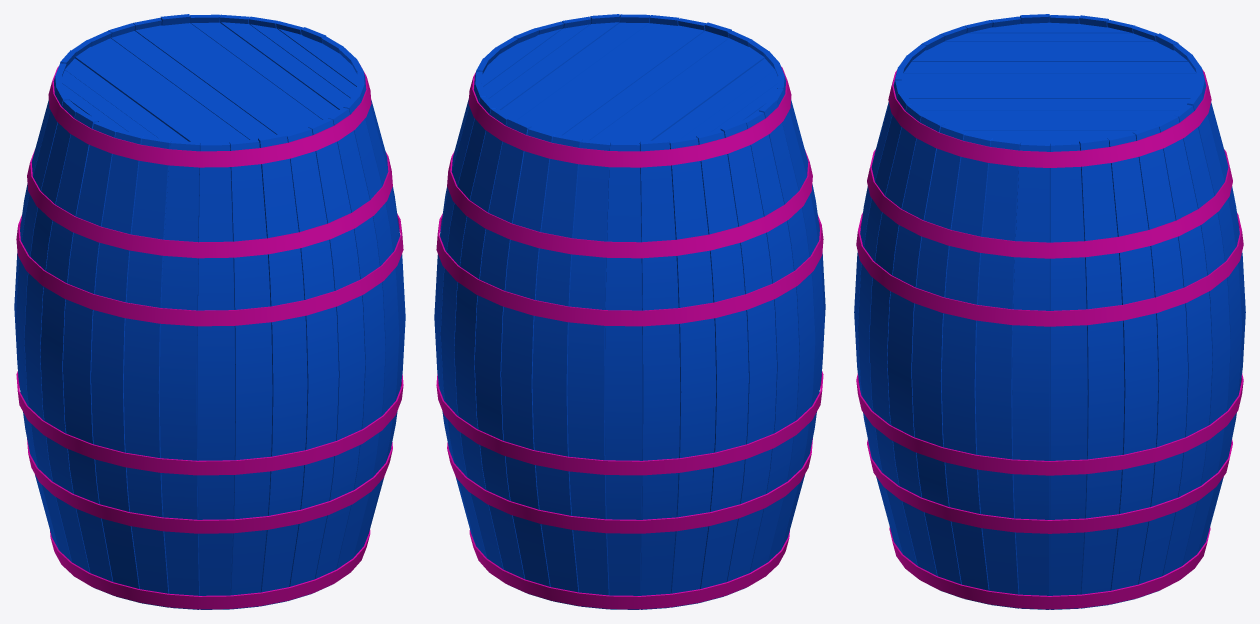
File: SM_Barrel_Closed.fbx
3 views of the same model, side by side, from view 1: azimuth 30°, elevation 25°; view 2: azimuth 150°, elevation 25°; view 3: azimuth 270°, elevation 25° (orthographic).
Parts seen in each view (by area): view 1: Barrel_Closed; view 2: Barrel_Closed; view 3: Barrel_Closed.
Part boxes in pixels (bbox=[...]): Barrel_Closed: bbox=[14, 14, 405, 609]; Barrel_Closed: bbox=[434, 14, 825, 609]; Barrel_Closed: bbox=[854, 14, 1245, 609].
Bounding box in the file's own units: 70.33 × 92.14 × 70.33.
